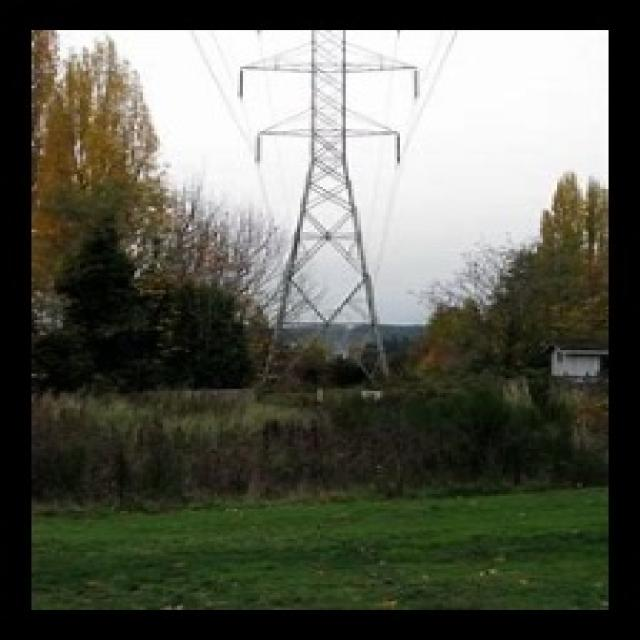utility poles: (162, 238, 330, 402), (339, 302, 538, 402)
